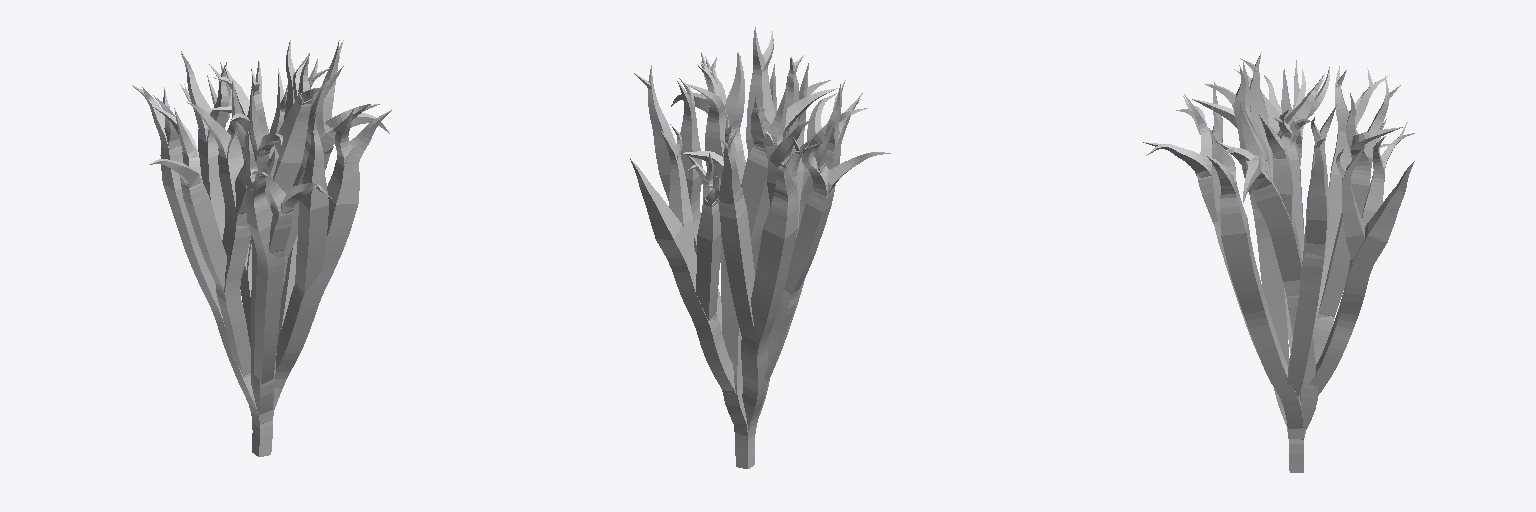
Rendered from bendytree_000003.obj.
3 renders of one model, left to right at view 1: azimuth 30°, elevation 25°; view 2: azimuth 150°, elevation 25°; view 3: azimuth 270°, elevation 25°, orthographic.
Visible parts, largest first — view 1: treemesh_treemesh.001; view 2: treemesh_treemesh.001; view 3: treemesh_treemesh.001.
Boxes of the visible parts, x1=… form: treemesh_treemesh.001: x1=132, y1=40, x2=391, y2=456; treemesh_treemesh.001: x1=630, y1=27, x2=890, y2=468; treemesh_treemesh.001: x1=1143, y1=52, x2=1414, y2=472.
Bounding box in the file's own units: 3.81 × 6.5 × 3.9.